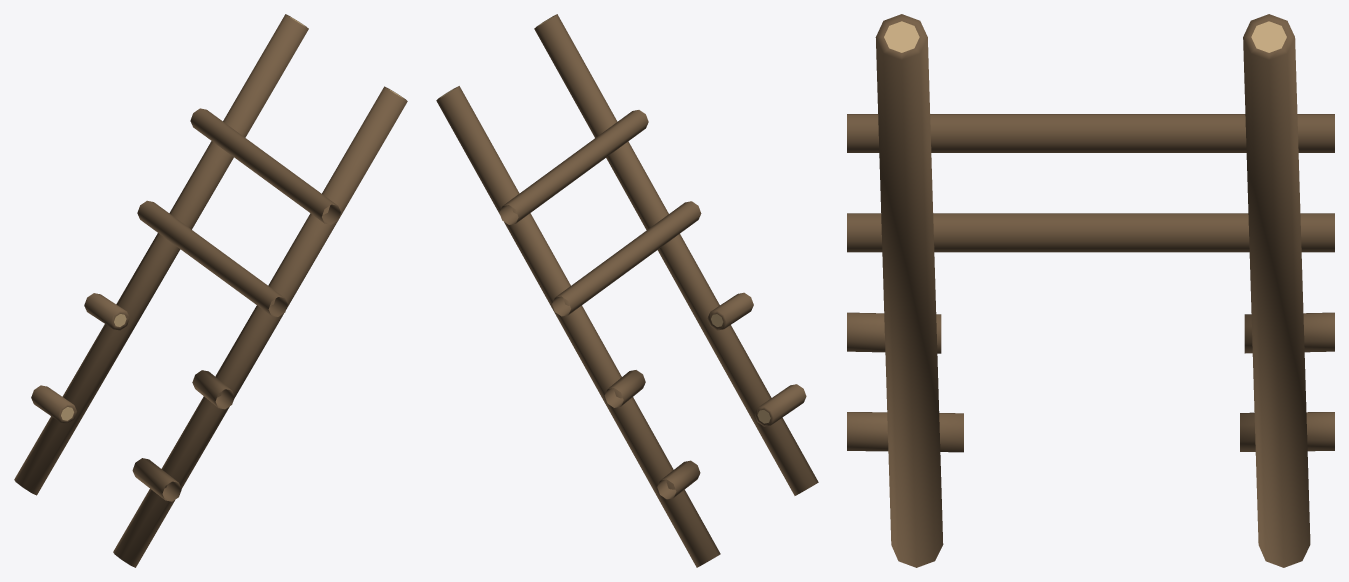
File: rpgpp_ag_roof_support_01_6x5x3_half_a_roof_01e.fbx
3 views of the same model, side by side, from view 1: azimuth 30°, elevation 25°; view 2: azimuth 150°, elevation 25°; view 3: azimuth 270°, elevation 25° (orthographic). The views are drawn at different scales.
Visible parts, largest first — view 1: rpgpp_ag_roof_support_01_6x5x3_half_a_roof_01e; view 2: rpgpp_ag_roof_support_01_6x5x3_half_a_roof_01e; view 3: rpgpp_ag_roof_support_01_6x5x3_half_a_roof_01e.
Part boxes in pixels (x1,y1,x2,y2): rpgpp_ag_roof_support_01_6x5x3_half_a_roof_01e: [14, 14, 407, 567]; rpgpp_ag_roof_support_01_6x5x3_half_a_roof_01e: [436, 14, 818, 567]; rpgpp_ag_roof_support_01_6x5x3_half_a_roof_01e: [847, 14, 1334, 567].
Bounding box in the file's own units: 3.78 × 5.29 × 3.
